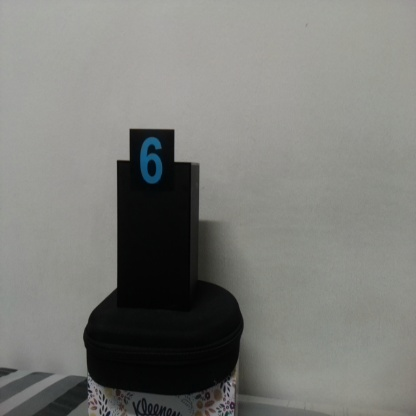id_6: (129, 129, 176, 204)
